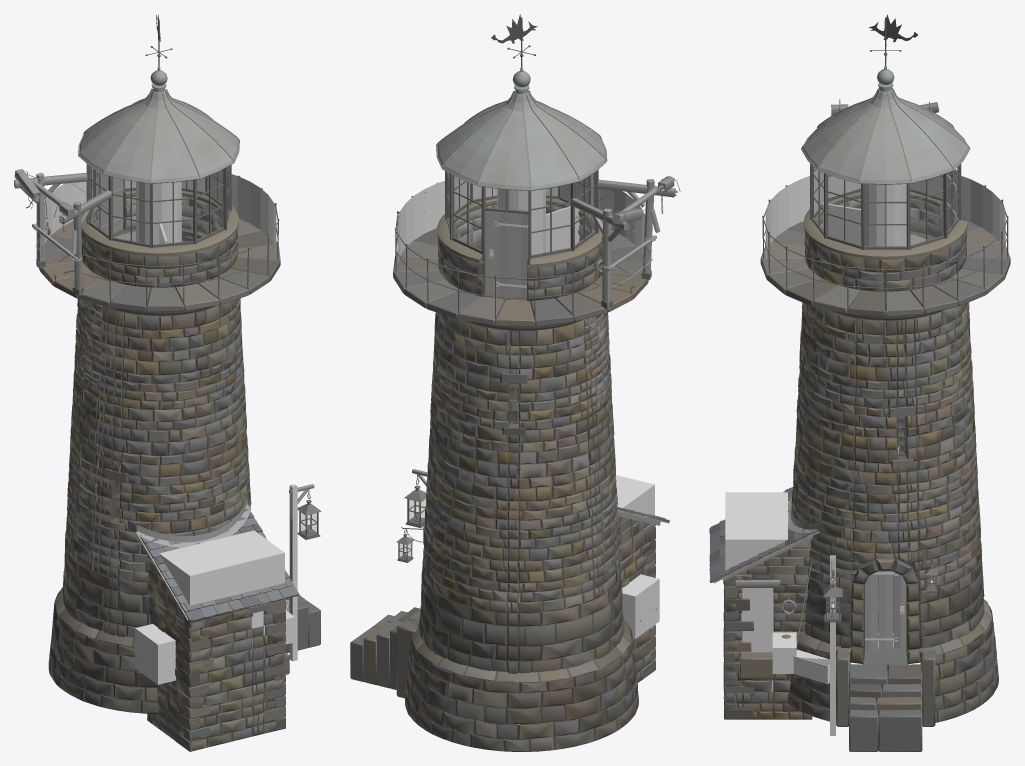
Rendered from lighthouse.glb.
3 views of the same model, side by side, from view 1: azimuth 30°, elevation 25°; view 2: azimuth 150°, elevation 25°; view 3: azimuth 270°, elevation 25° (orthographic). The views are drawn at different scales.
Visible parts, largest first — view 1: Tower stone, Store / lh_stone, Lantern roof / lh_verdigris, Plinth and steps, Gallery, Lantern drum / lh_stone, Store walls, Lantern glazing / tav_glass, Lantern glazing / tav_iron, Bell frame / lh_oak, Store roof / tav_slate, Gallery guard (+9 smaller); view 2: Tower stone, Plinth and steps, Lantern roof / lh_verdigris, Gallery, Lantern drum / lh_stone, Lantern glazing / tav_glass, Bell frame / lh_oak, Lantern glazing / tav_iron, Gallery door, Gallery guard, Store / lh_stone, Woodpile stack (+8 smaller); view 3: Tower stone, Plinth and steps, Lantern roof / lh_verdigris, Gallery, Store / lh_stone, Lantern drum / lh_stone, Lantern glazing / tav_glass, Store walls, Gallery guard, Lantern glazing / tav_iron, Lighthouse door, Optic guard (+11 smaller).
Part boxes in pixels (left/top/right/bottom): Tower stone: left=62, top=233, right=251, bottom=646; Store / lh_stone: left=147, top=553, right=289, bottom=751; Lantern roof / lh_verdigris: left=78, top=67, right=239, bottom=183; Plinth and steps: left=48, top=561, right=320, bottom=713; Gallery: left=39, top=219, right=280, bottom=311; Lantern drum / lh_stone: left=81, top=190, right=238, bottom=287; Store walls: left=159, top=530, right=284, bottom=658; Lantern glazing / tav_glass: left=90, top=167, right=228, bottom=244; Lantern glazing / tav_iron: left=86, top=164, right=231, bottom=248; Bell frame / lh_oak: left=14, top=169, right=111, bottom=295; Store roof / tav_slate: left=139, top=509, right=299, bottom=621; Gallery guard: left=44, top=174, right=275, bottom=250; Tower stone: left=419, top=247, right=624, bottom=682; Plinth and steps: left=350, top=607, right=638, bottom=751; Lantern roof / lh_verdigris: left=436, top=67, right=607, bottom=190; Gallery: left=393, top=228, right=648, bottom=326; Lantern drum / lh_stone: left=437, top=198, right=602, bottom=300; Lantern glazing / tav_glass: left=448, top=173, right=594, bottom=254; Bell frame / lh_oak: left=571, top=176, right=675, bottom=309; Lantern glazing / tav_iron: left=445, top=169, right=598, bottom=293; Gallery door: left=485, top=211, right=528, bottom=296; Gallery guard: left=398, top=181, right=644, bottom=262; Store / lh_stone: left=610, top=516, right=655, bottom=682; Woodpile stack: left=622, top=574, right=659, bottom=638; Tower stone: left=791, top=302, right=984, bottom=664; Plinth and steps: left=787, top=569, right=998, bottom=751; Lantern roof / lh_verdigris: left=801, top=66, right=970, bottom=184; Gallery: left=760, top=220, right=1010, bottom=316; Store / lh_stone: left=723, top=539, right=812, bottom=719; Lantern drum / lh_stone: left=803, top=191, right=967, bottom=291; Lantern glazing / tav_glass: left=814, top=168, right=956, bottom=245; Store walls: left=725, top=492, right=788, bottom=691; Gallery guard: left=765, top=176, right=1005, bottom=256; Lantern glazing / tav_iron: left=810, top=163, right=961, bottom=249; Lighthouse door: left=865, top=571, right=906, bottom=648; Optic guard: left=864, top=184, right=906, bottom=246.
Size of the model in its own units: 7.45 by 17.45 by 6.98.
